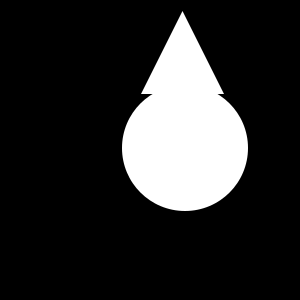rectangle: (122, 85, 248, 211)
triangle: (141, 11, 224, 94)
